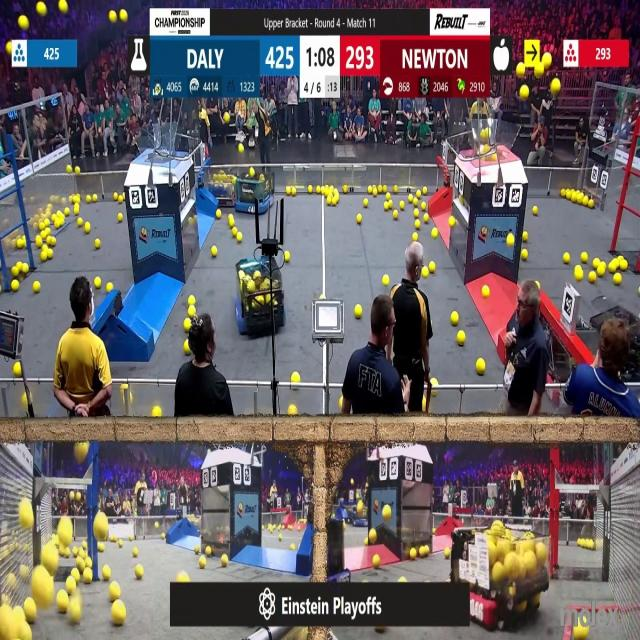ball_airborne: (20, 502, 34, 530), (59, 519, 73, 546), (95, 514, 109, 540), (76, 443, 88, 463), (482, 143, 492, 157), (18, 15, 27, 30), (36, 2, 46, 15), (552, 79, 561, 93), (517, 64, 526, 77), (541, 55, 550, 68), (521, 87, 529, 100), (60, 0, 68, 13), (534, 66, 543, 77), (118, 10, 126, 20), (6, 42, 12, 54), (482, 130, 489, 140), (223, 112, 229, 123), (110, 10, 116, 21), (238, 144, 244, 153), (76, 492, 81, 501), (249, 169, 254, 178), (491, 153, 497, 160)
ball_ground: (112, 602, 124, 625), (69, 603, 81, 624), (27, 603, 38, 625), (58, 594, 69, 612), (110, 584, 120, 601), (574, 627, 586, 639), (67, 580, 76, 596), (22, 626, 32, 640), (383, 506, 391, 522), (82, 568, 91, 582), (178, 571, 189, 582), (458, 332, 466, 347), (136, 565, 144, 579), (574, 268, 582, 282), (478, 359, 486, 373), (102, 566, 110, 580), (71, 568, 80, 580), (368, 529, 375, 544), (598, 265, 606, 278), (152, 408, 161, 419), (452, 312, 459, 326), (13, 361, 20, 375), (506, 235, 514, 247), (620, 261, 628, 273), (615, 274, 623, 286), (589, 272, 597, 284), (609, 262, 617, 274), (355, 306, 362, 319), (288, 407, 297, 417), (46, 237, 55, 247), (382, 275, 390, 286), (187, 307, 195, 318), (16, 239, 24, 250), (183, 342, 189, 356), (11, 280, 18, 292), (183, 319, 190, 331), (411, 550, 418, 562), (374, 556, 381, 568), (334, 192, 341, 204), (423, 544, 430, 556), (291, 374, 299, 384), (86, 559, 94, 569), (484, 286, 491, 297), (95, 278, 102, 289), (83, 221, 90, 232), (34, 281, 40, 293), (201, 556, 207, 568), (227, 214, 233, 226), (188, 294, 195, 304), (582, 252, 589, 262), (428, 264, 435, 274), (36, 238, 43, 248), (445, 549, 452, 559), (11, 268, 18, 278), (587, 198, 594, 208), (450, 216, 456, 227), (522, 249, 528, 260), (221, 556, 227, 567), (46, 249, 52, 260), (133, 548, 139, 559), (593, 258, 600, 267), (564, 252, 570, 262), (431, 230, 437, 240), (523, 232, 529, 242), (284, 251, 290, 261), (422, 269, 428, 279), (107, 282, 113, 292), (23, 264, 29, 274), (40, 251, 46, 261), (76, 558, 82, 568), (212, 246, 217, 257), (95, 240, 101, 249), (356, 214, 362, 223), (413, 233, 419, 242), (206, 546, 212, 555), (237, 234, 243, 243), (414, 209, 420, 218), (413, 197, 419, 206), (74, 205, 79, 215), (398, 576, 406, 582), (532, 207, 538, 215), (99, 542, 105, 550), (76, 218, 82, 226), (232, 226, 238, 234), (424, 214, 429, 223), (216, 210, 221, 219), (393, 210, 398, 219), (399, 202, 404, 211), (431, 378, 436, 387), (328, 198, 333, 207), (118, 193, 123, 202), (93, 193, 99, 200), (290, 188, 296, 195), (316, 185, 322, 192), (363, 200, 368, 208), (194, 544, 199, 552), (309, 185, 314, 193), (386, 191, 391, 199), (113, 192, 118, 200), (421, 202, 426, 210), (344, 185, 349, 193), (417, 190, 422, 198), (340, 397, 344, 407), (118, 539, 123, 547), (120, 214, 124, 223), (385, 202, 389, 211), (561, 188, 565, 197), (423, 187, 428, 194), (130, 534, 135, 541), (371, 189, 376, 196), (393, 185, 398, 192), (82, 541, 87, 548), (584, 619, 589, 626), (383, 185, 388, 192), (416, 220, 420, 228), (364, 538, 368, 546), (409, 194, 413, 202), (66, 208, 70, 216), (86, 197, 90, 205), (367, 185, 371, 193), (154, 522, 158, 529), (290, 543, 294, 549), (320, 294, 324, 300), (280, 536, 283, 544), (164, 533, 166, 539)
goal: (465, 122, 520, 161), (130, 129, 188, 160)
robot_blue: (234, 262, 285, 336), (234, 172, 274, 216), (339, 482, 375, 527)
robot_red: (449, 523, 548, 625), (205, 169, 235, 205)
